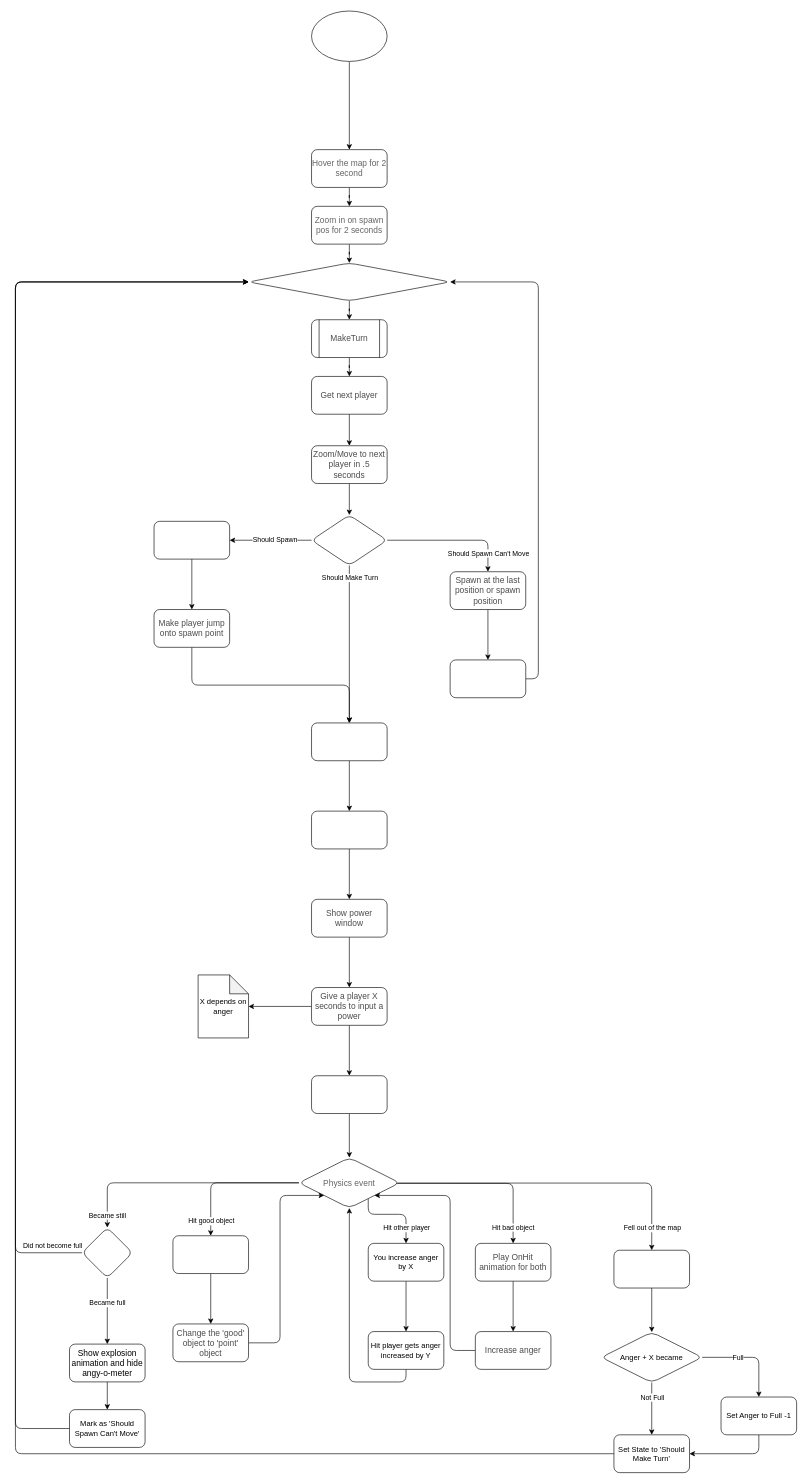
The diagram is 808 pixels wide and 1484 high, and some of its shapes have lost their labels. Here are the shapes that lost their labels. From the top down, the centre of each, then its label:
(349,35): Entry
(349,281): Until the first player enters the hole
(191,540): Put the player on spawn position
(349,539): Player state
(488,678): Play spawn animation
(349,741): Enable controls
(349,829): Wait for input of trajectory and rotation
(349,1094): Shoot the ball according the inputs
(106,1252): Angy meter
(210,1254): Give a point
(651,1269): Increase anger by X
